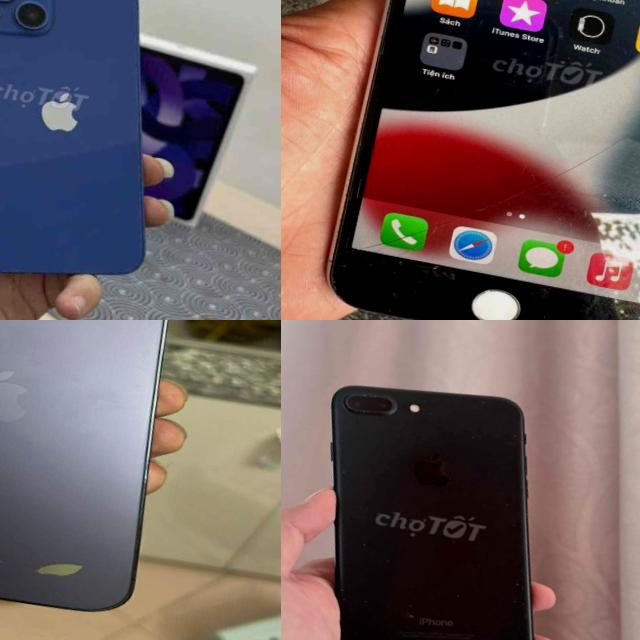physical_damage: (325, 25, 640, 318)
scratch: (489, 572, 553, 640), (330, 582, 424, 626), (466, 288, 556, 320), (27, 546, 89, 588), (342, 536, 396, 584), (337, 386, 407, 420), (498, 496, 526, 532), (320, 272, 350, 300), (0, 542, 20, 578), (416, 394, 441, 416), (330, 458, 350, 476), (446, 584, 466, 602), (360, 631, 395, 640), (506, 429, 520, 441), (476, 398, 488, 408), (390, 429, 402, 438)
